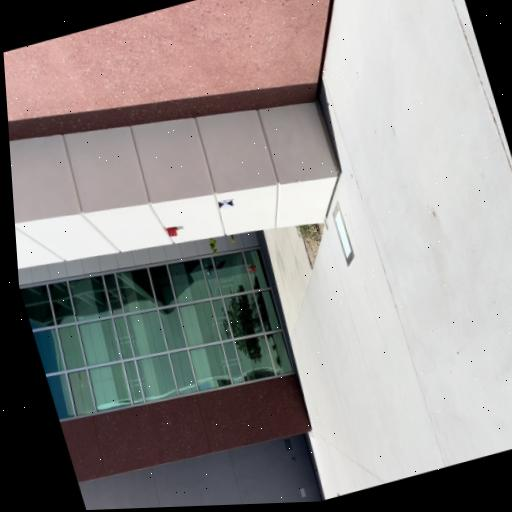target9: (217, 199, 234, 210)
